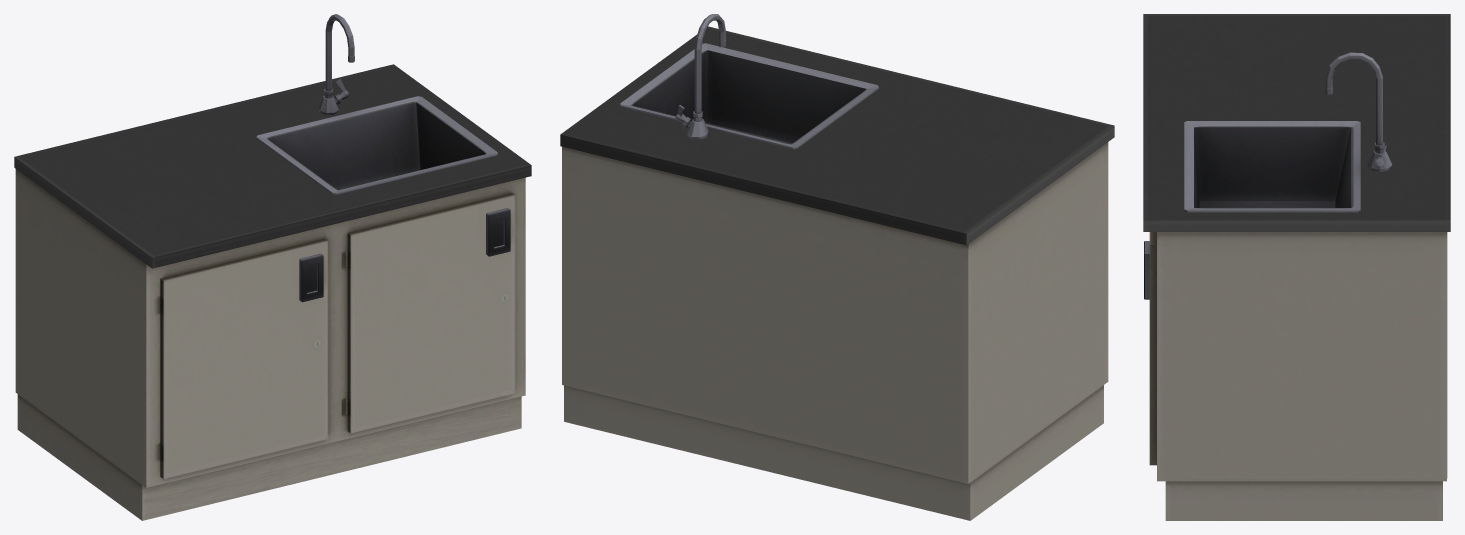
Rendered from cabinet 1.obj.
3 views of the same model, side by side, from view 1: azimuth 30°, elevation 25°; view 2: azimuth 150°, elevation 25°; view 3: azimuth 270°, elevation 25° (orthographic). The views are drawn at different scales.
Parts seen in each view (by area): view 1: rdmobj00.001, rdmobj01.001; view 2: rdmobj00.001, rdmobj01.001; view 3: rdmobj00.001, rdmobj01.001.
Part boxes in pixels (bbox=[...]): rdmobj00.001: bbox=[14, 64, 531, 520]; rdmobj01.001: bbox=[256, 14, 510, 302]; rdmobj00.001: bbox=[560, 26, 1114, 520]; rdmobj01.001: bbox=[620, 14, 878, 148]; rdmobj00.001: bbox=[1143, 14, 1450, 520]; rdmobj01.001: bbox=[1144, 52, 1392, 299].
Size of the model in its own units: 145 by 136 by 91.42.
Materials: 2 (2 with a texture image).
